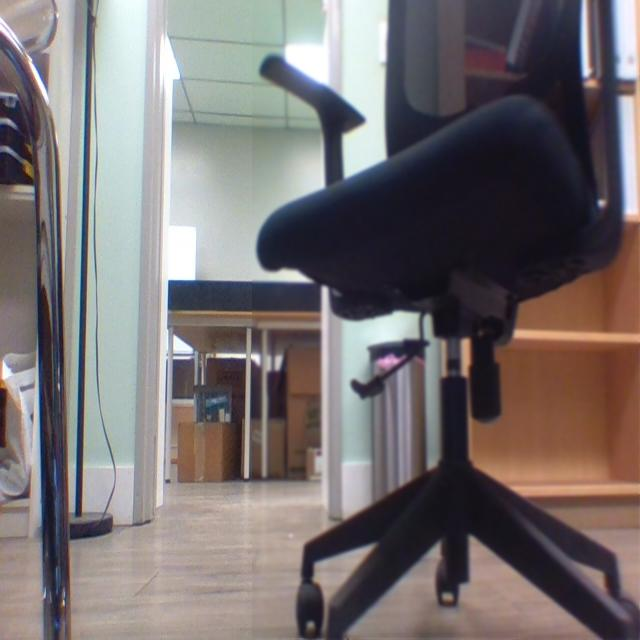black-chair: (252, 0, 640, 639)
